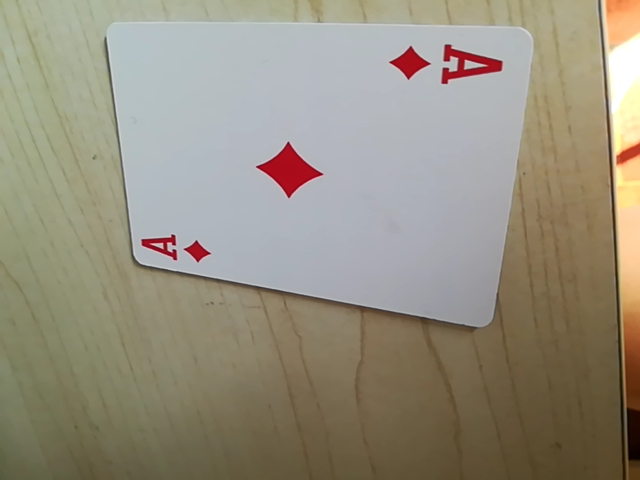fk a: (391, 38, 505, 91), (136, 225, 218, 268)
